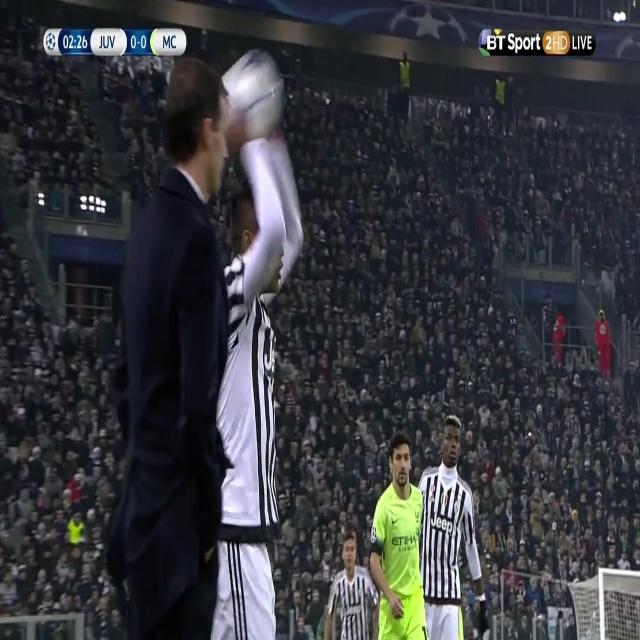Ball: (222, 46, 284, 138)
Player: (209, 126, 309, 638), (416, 415, 493, 640), (368, 435, 428, 640), (322, 529, 378, 640)
